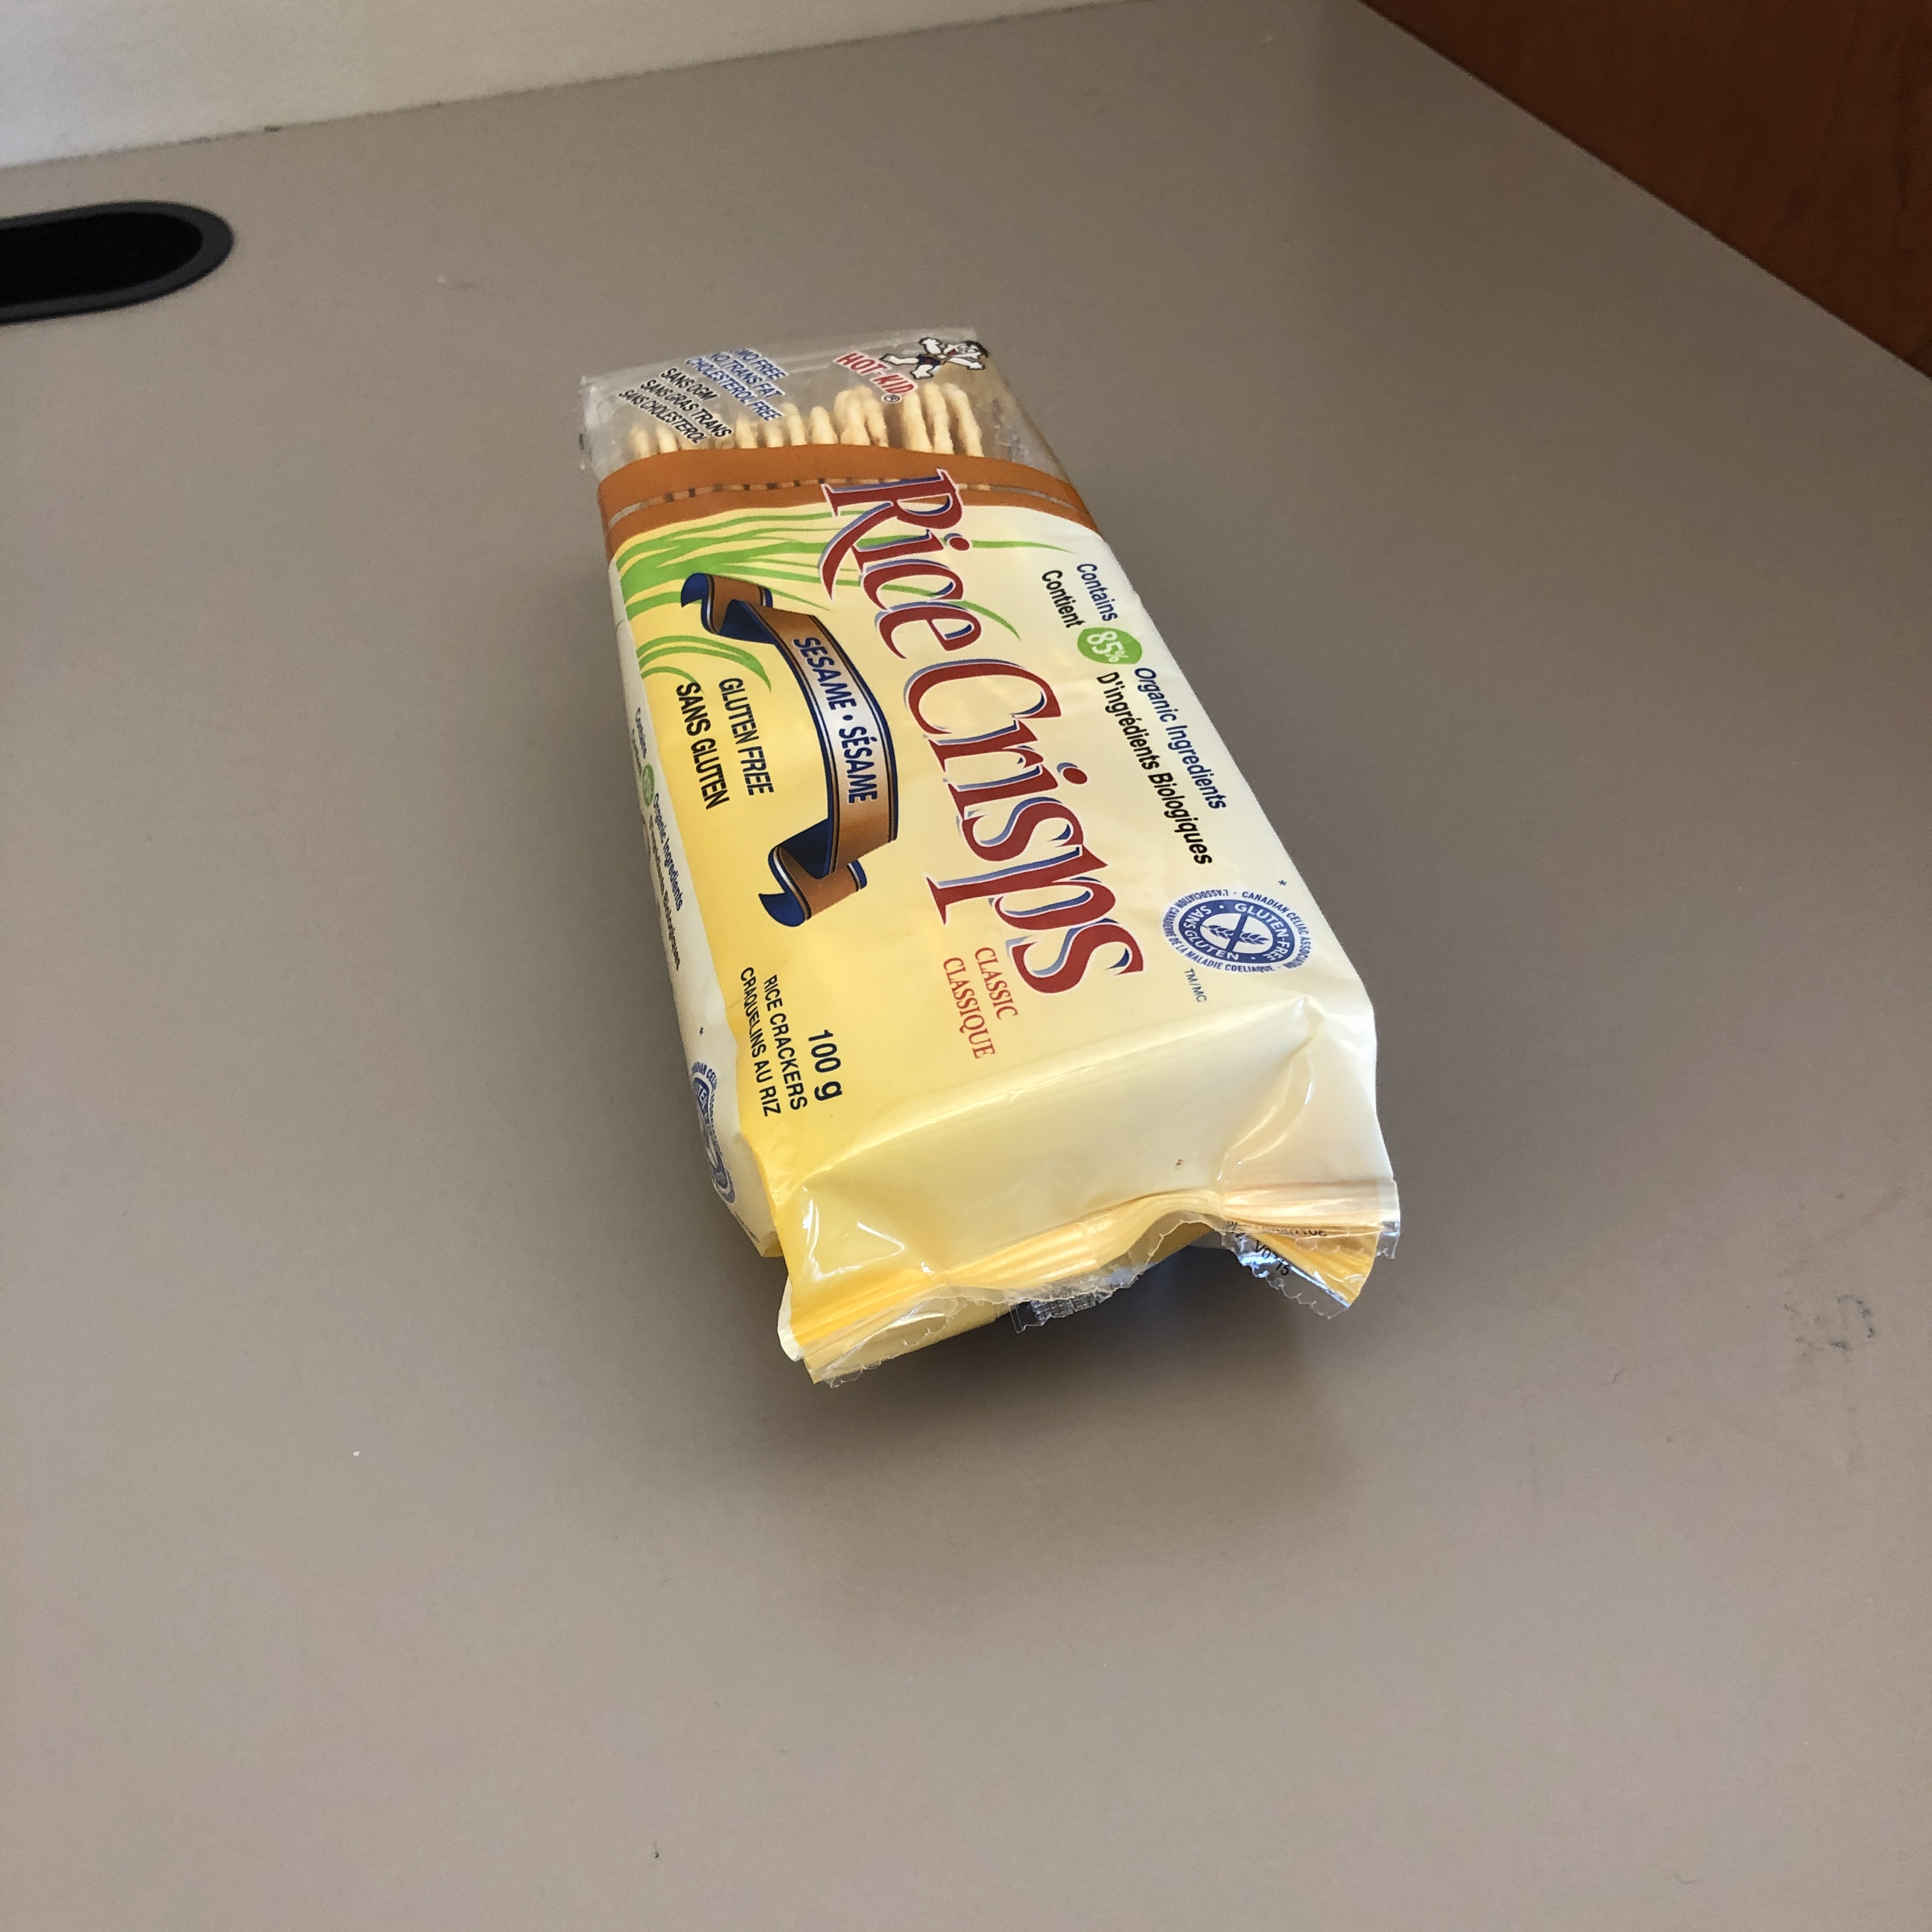hot_kid_rice_crisps_sesame: (298, 636, 1260, 1342)
